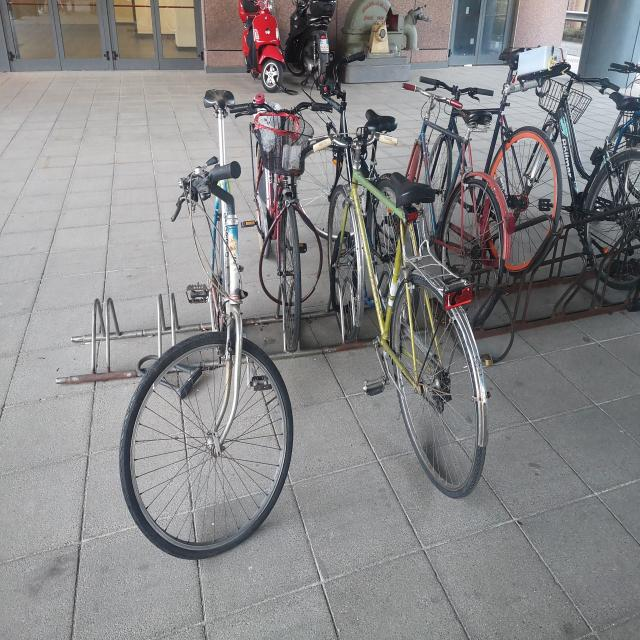Bicycle: (127, 66, 298, 600), (305, 115, 508, 524), (413, 62, 567, 304), (382, 61, 507, 328), (518, 61, 639, 332), (234, 95, 325, 382), (331, 77, 417, 280), (593, 70, 640, 190)
